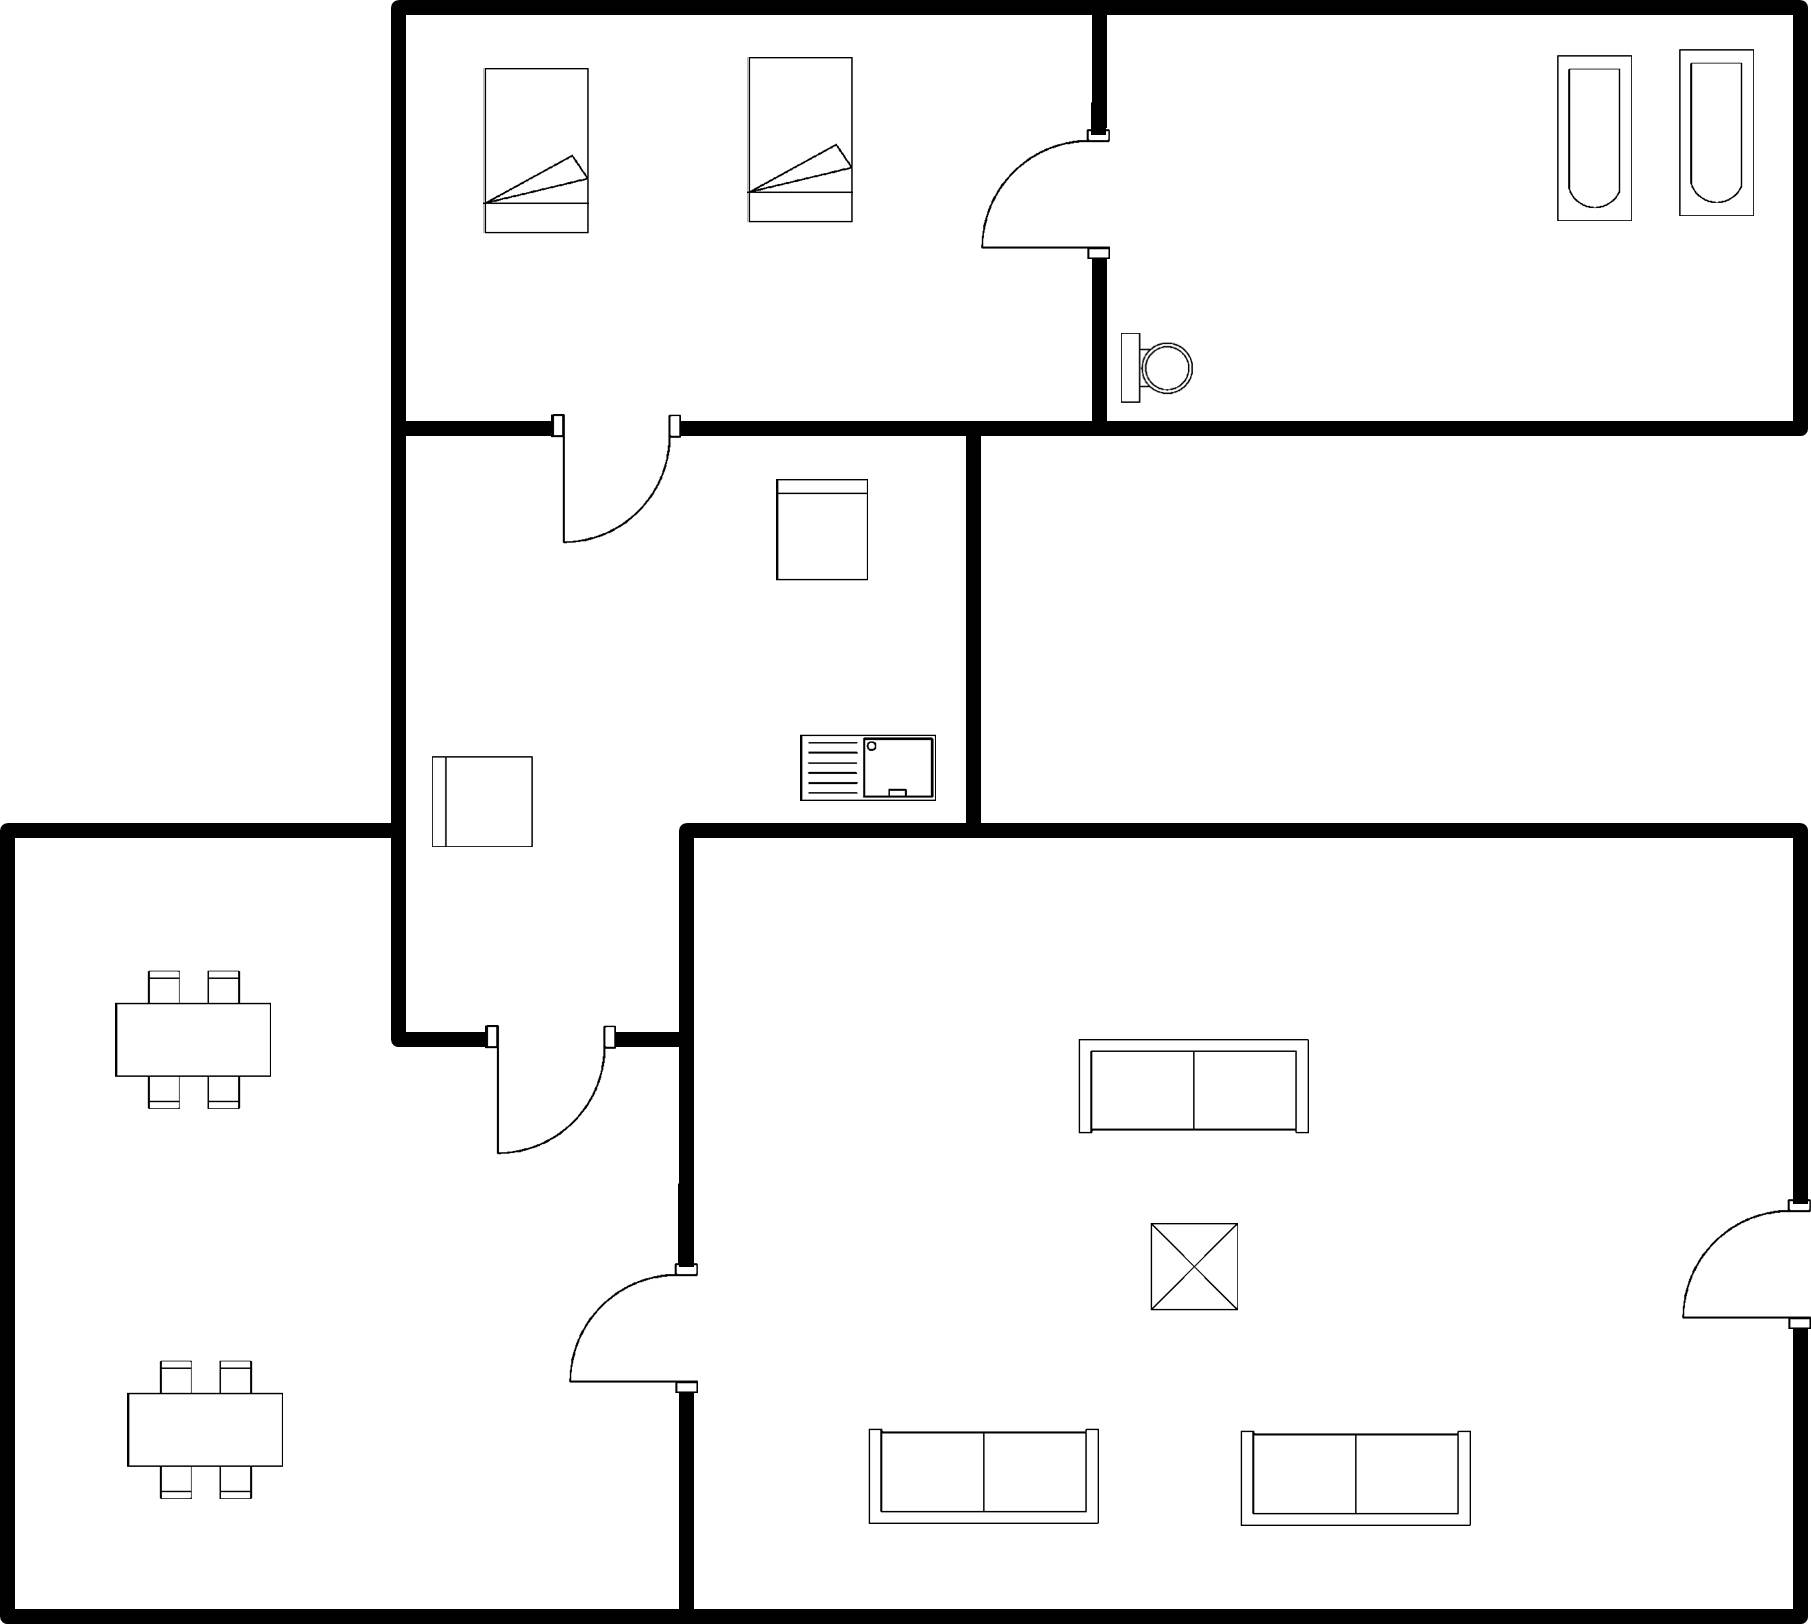bed: (474, 55, 603, 248), (738, 48, 862, 233)
coffee_table: (1141, 1211, 1254, 1319)
dining_table: (97, 962, 289, 1124), (113, 1351, 295, 1513)
large_sink: (1113, 319, 1198, 424)
large_sofa: (855, 1416, 1111, 1541), (1067, 1022, 1321, 1148), (1227, 1422, 1486, 1538)
sink: (789, 722, 946, 811)
small_sofa: (419, 741, 546, 859), (768, 470, 881, 597)
tub: (1665, 40, 1765, 232), (1549, 40, 1641, 232)
